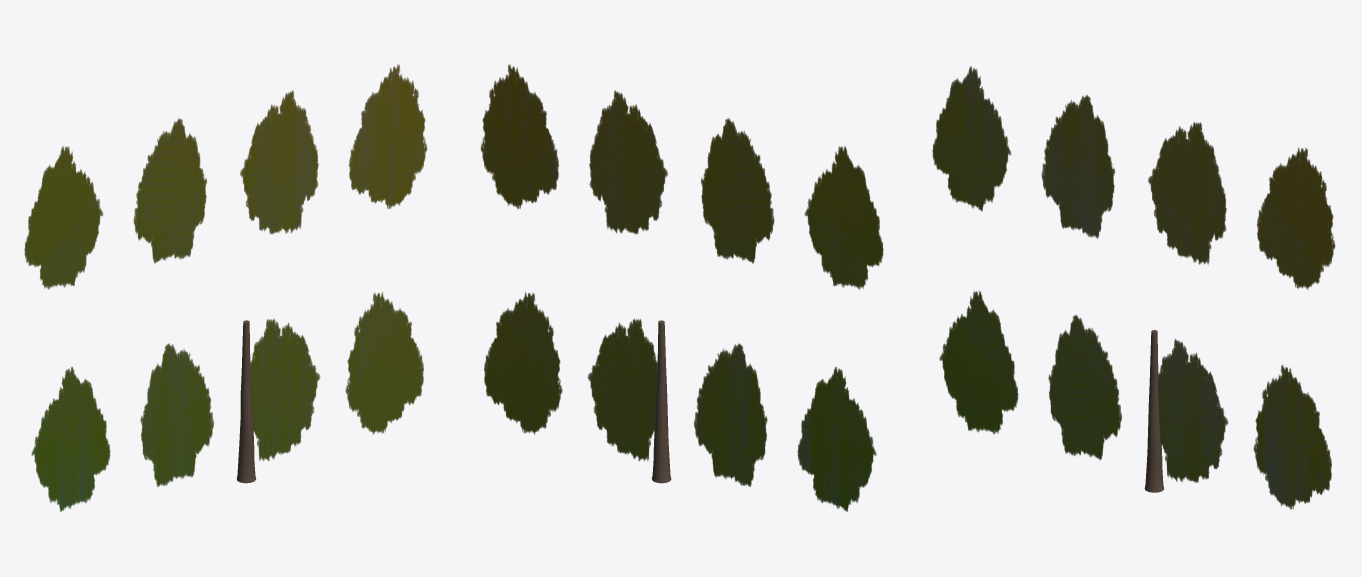
The model's file is tree_medium_broad_clustered_canopy_lod2_impostor.glb.
3 views of the same model, side by side, from view 1: azimuth 30°, elevation 25°; view 2: azimuth 150°, elevation 25°; view 3: azimuth 330°, elevation 25° (orthographic).
Parts seen in each view (by area): view 1: TreeHLOD2_Impostor, Camphor_Trunk_Stylized; view 2: TreeHLOD2_Impostor, Camphor_Trunk_Stylized; view 3: TreeHLOD2_Impostor, Camphor_Trunk_Stylized.
Boxes of the visible parts, <box> form: TreeHLOD2_Impostor: <box>24,64,427,511</box>; Camphor_Trunk_Stylized: <box>236,320,256,483</box>; TreeHLOD2_Impostor: <box>480,64,883,511</box>; Camphor_Trunk_Stylized: <box>651,320,671,483</box>; TreeHLOD2_Impostor: <box>932,66,1335,509</box>; Camphor_Trunk_Stylized: <box>1144,330,1163,492</box>.
Bounding box in the file's own units: 18.09 × 18.09 × 0.7077.
2 materials, 1 textured.
